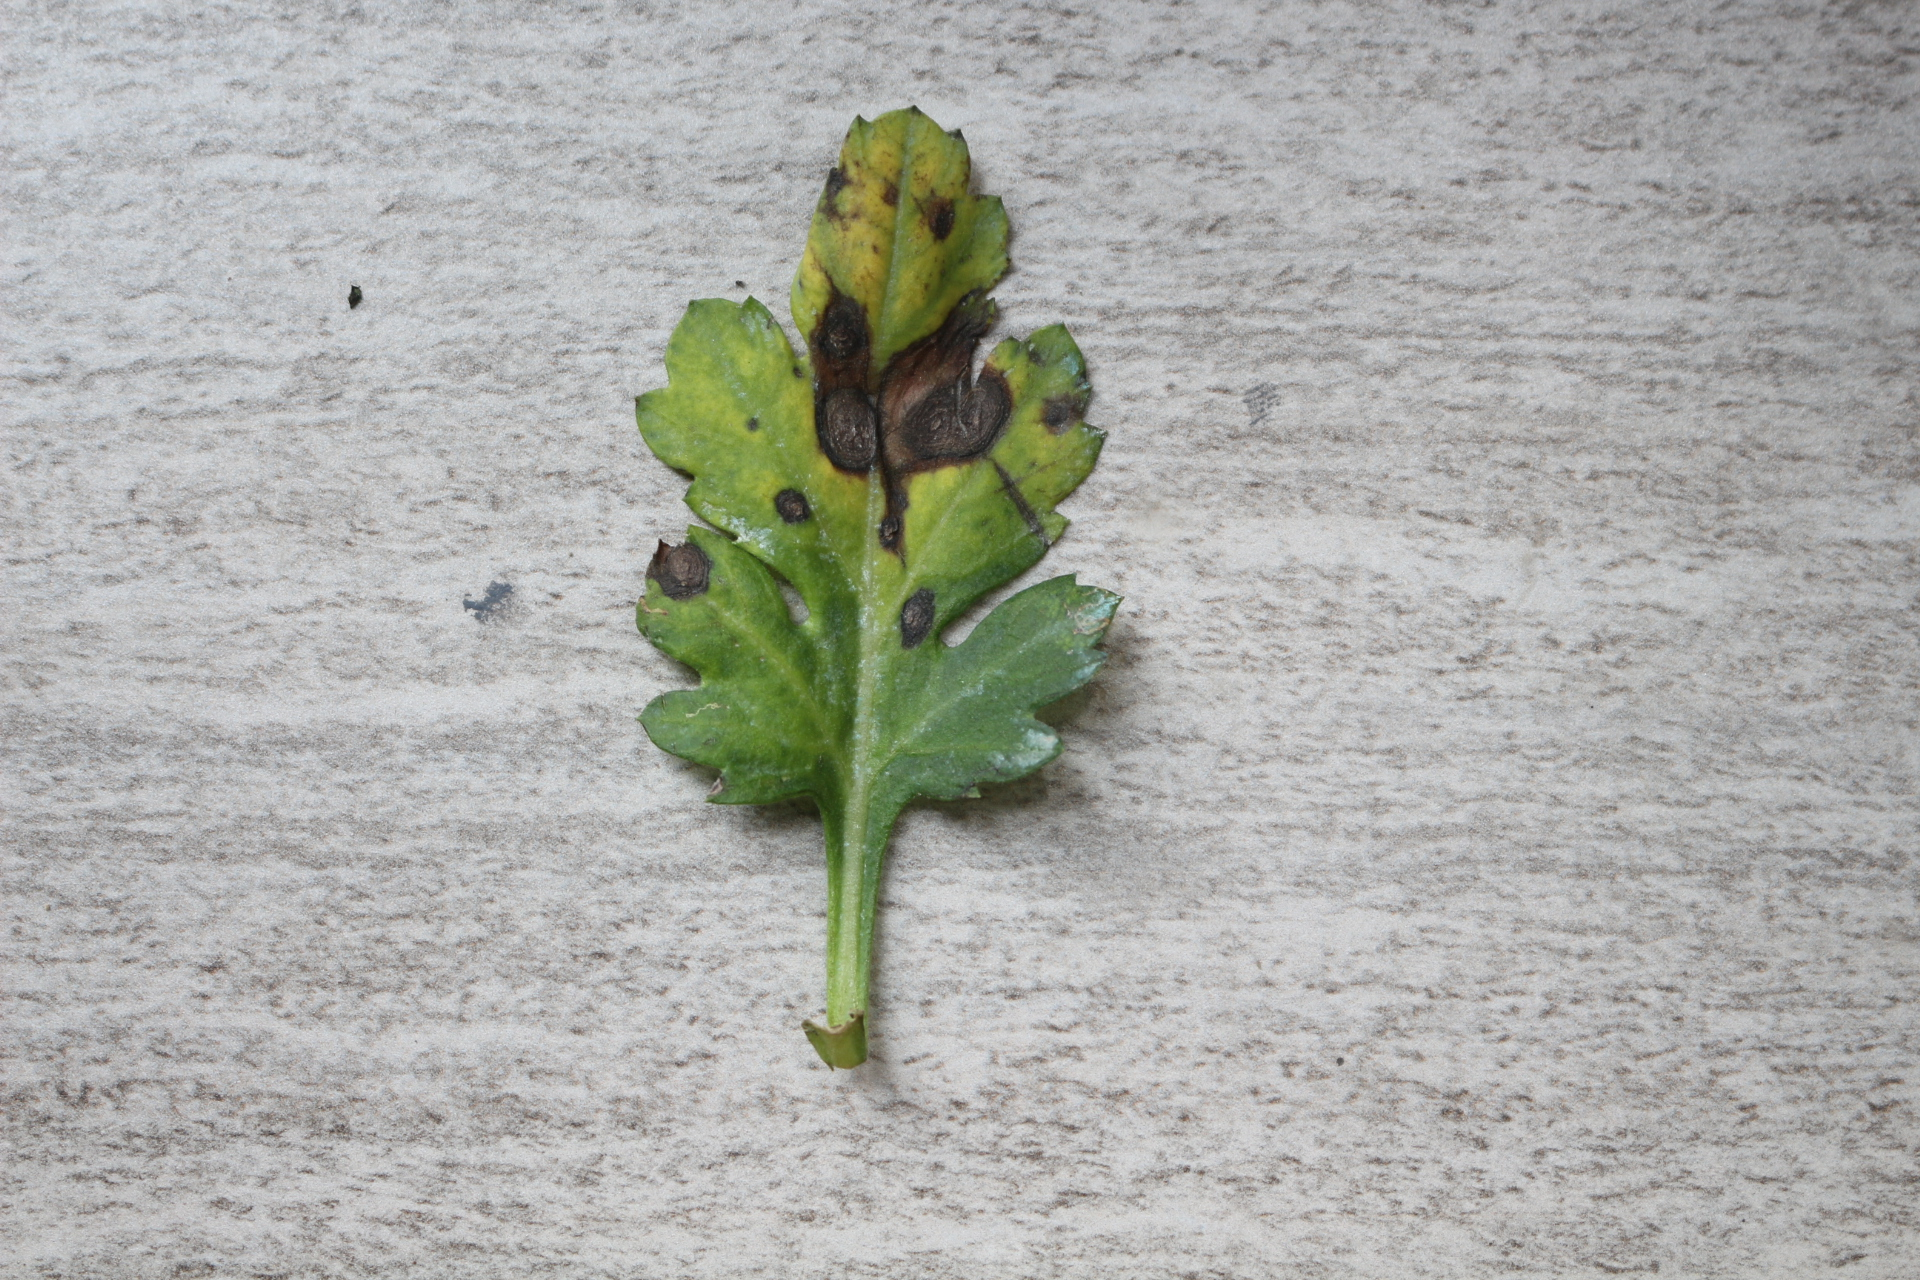namden: (799, 299, 1019, 491), (649, 546, 714, 600), (897, 583, 937, 651), (914, 191, 959, 250), (1039, 387, 1084, 441), (769, 486, 816, 527)
